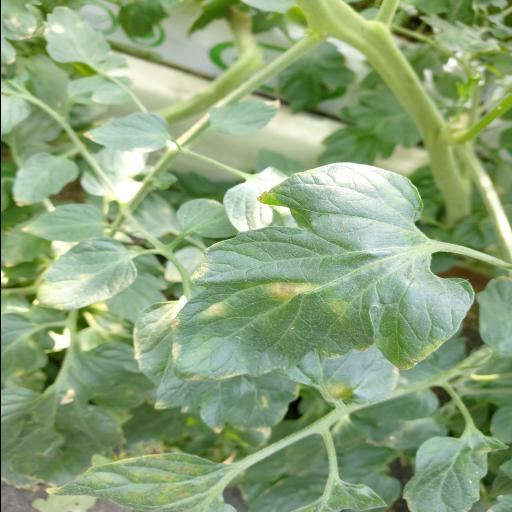disease_tomato: (169, 164, 475, 383), (32, 236, 138, 310)
